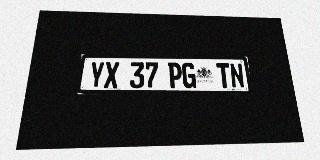3: (130, 62, 144, 88)
7: (144, 62, 158, 88)
G: (182, 63, 196, 88)
N: (229, 63, 245, 88)
P: (168, 62, 182, 88)
T: (216, 63, 231, 88)
X: (104, 62, 119, 88)
Y: (88, 62, 105, 88)
